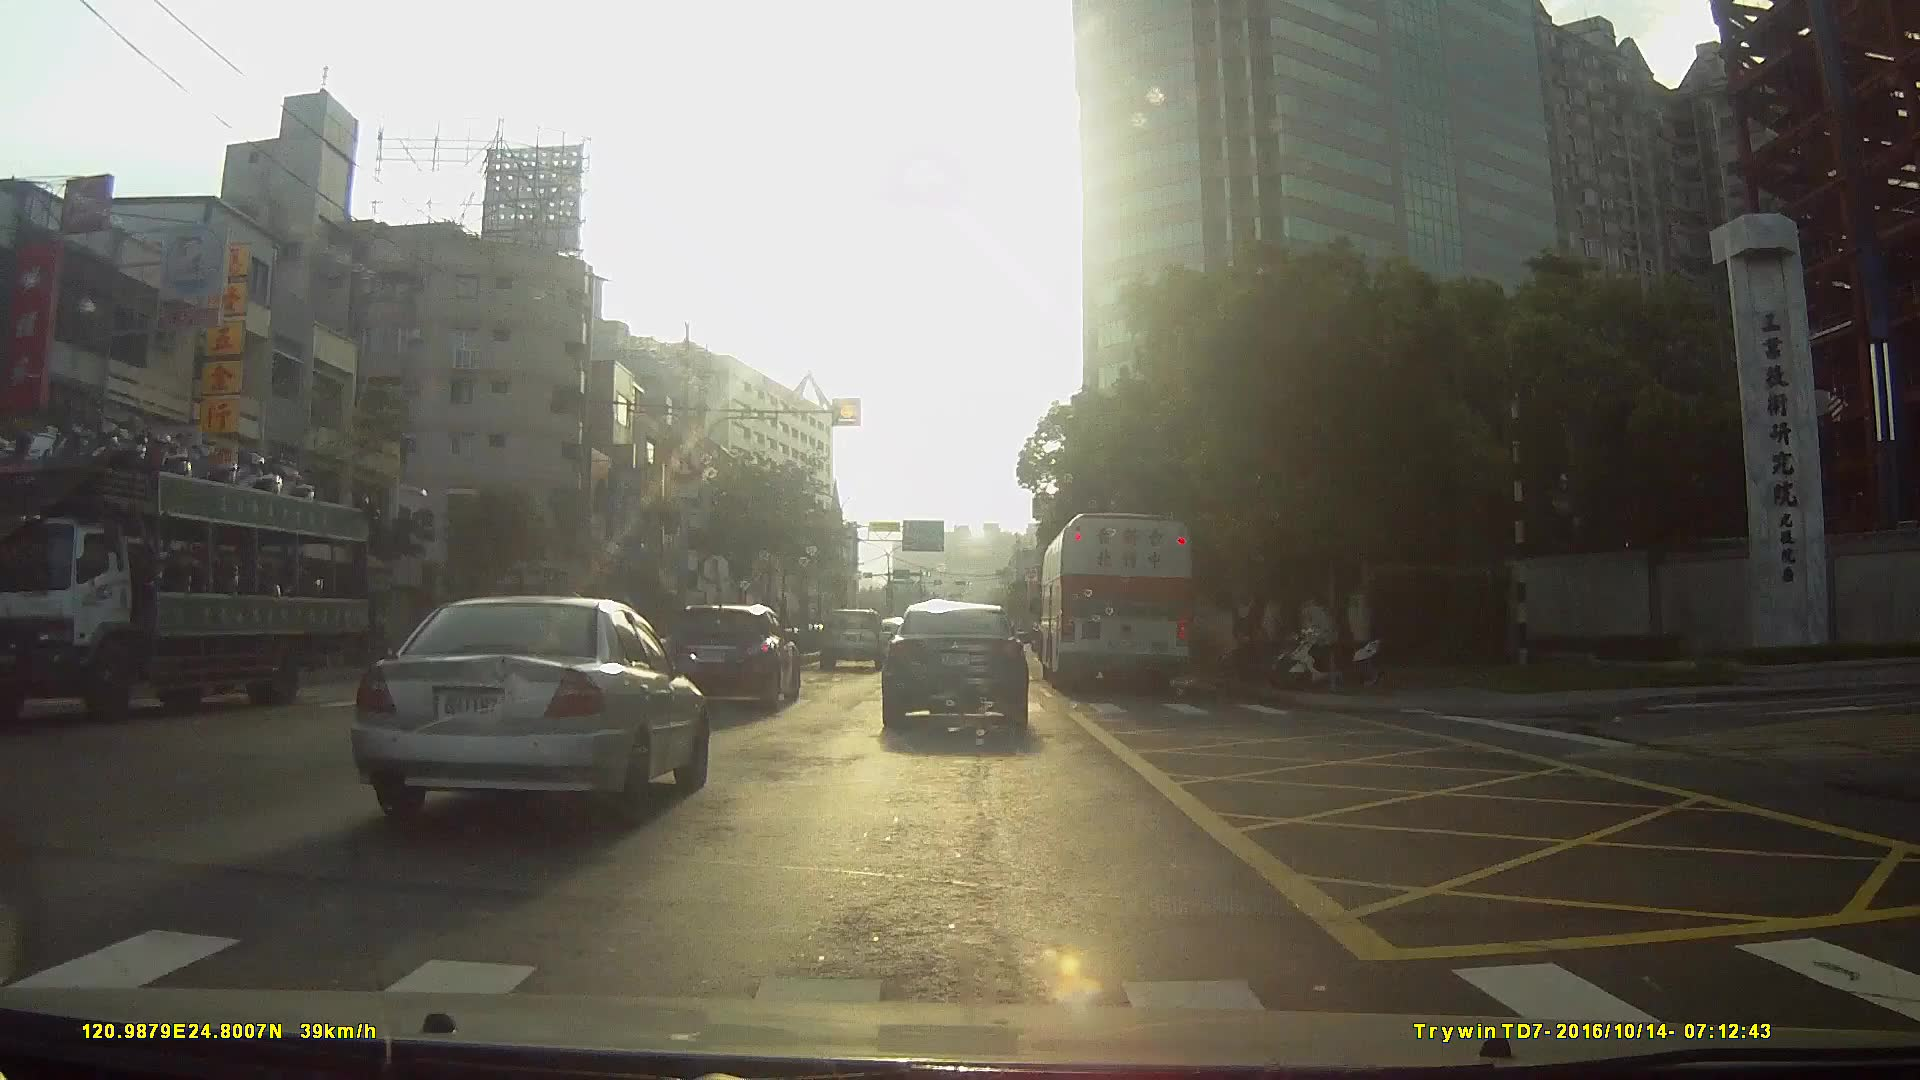vehicle: (9, 406, 364, 724), (344, 593, 705, 825), (1042, 512, 1199, 700), (880, 603, 1031, 740), (665, 604, 802, 712), (818, 611, 889, 676)
